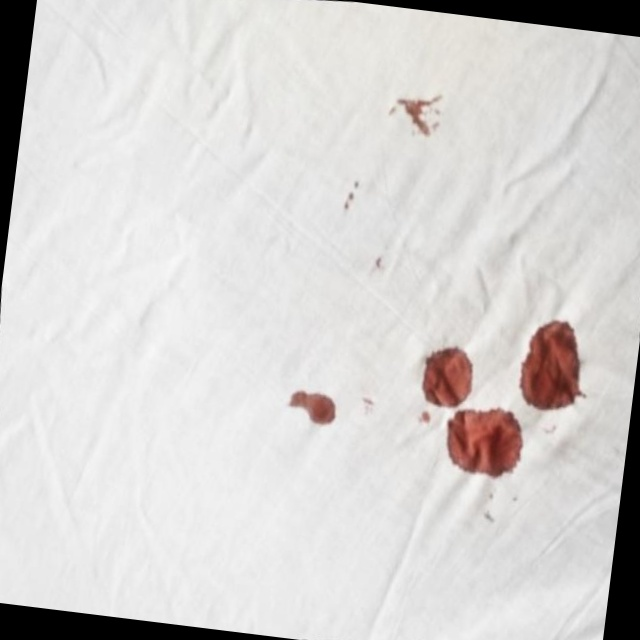blood: (516, 316, 594, 416), (445, 410, 525, 478), (419, 346, 476, 410), (285, 389, 339, 428)
